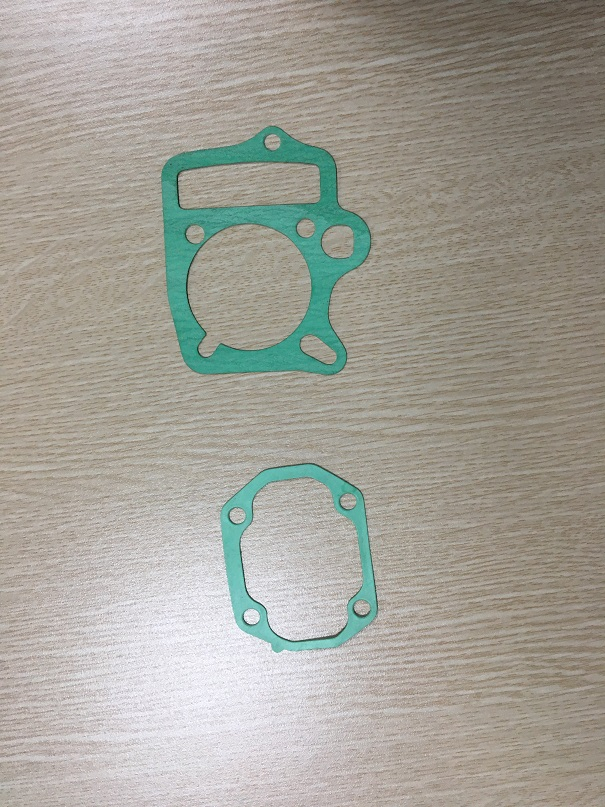type2: (213, 457, 384, 656)
type4: (147, 121, 382, 390)
